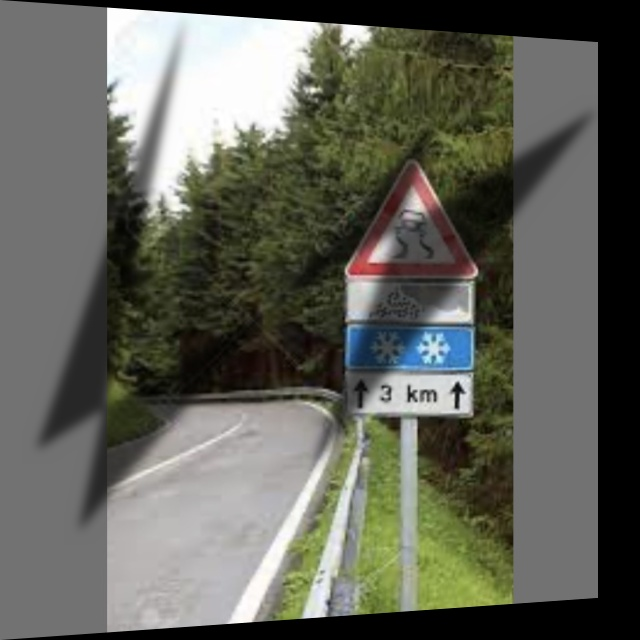Slippery_Road: (350, 156, 478, 277)
